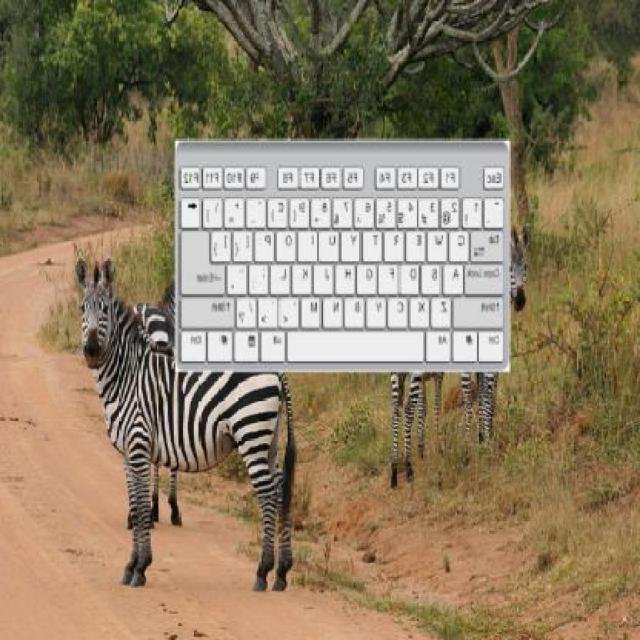keyboard: (161, 133, 520, 383)
